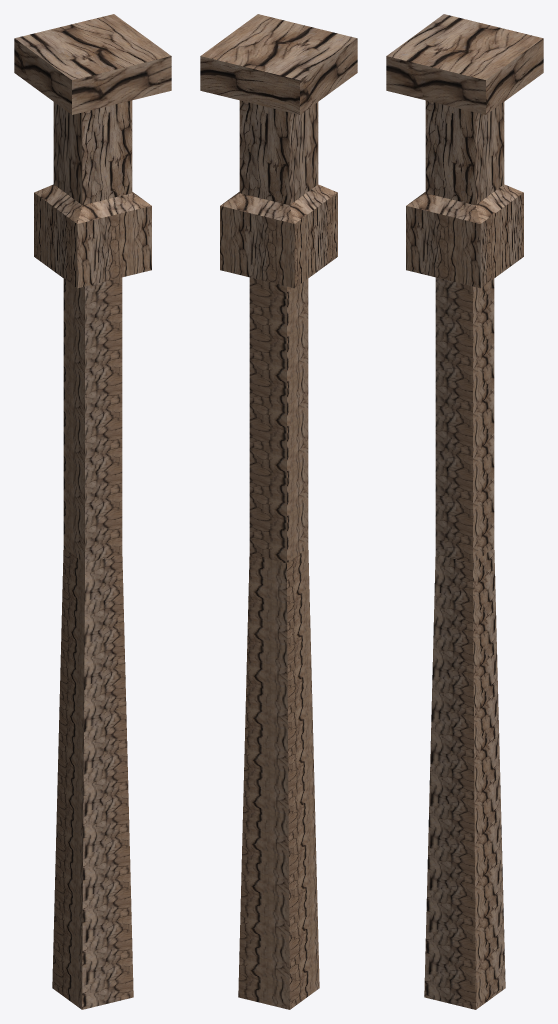
Rendered from platform.fbx.
The picture shows the model from 3 angles, left to right: view 1: azimuth 30°, elevation 25°; view 2: azimuth 150°, elevation 25°; view 3: azimuth 330°, elevation 25°; orthographic projection.
Parts seen in each view (by area): view 1: Cube; view 2: Cube; view 3: Cube.
Part boxes in pixels (left/top/right/bottom): Cube: left=14, top=14, right=171, bottom=1009; Cube: left=200, top=14, right=357, bottom=1009; Cube: left=386, top=14, right=543, bottom=1009.
Size of the model in its own units: 300 by 2723 by 300.
